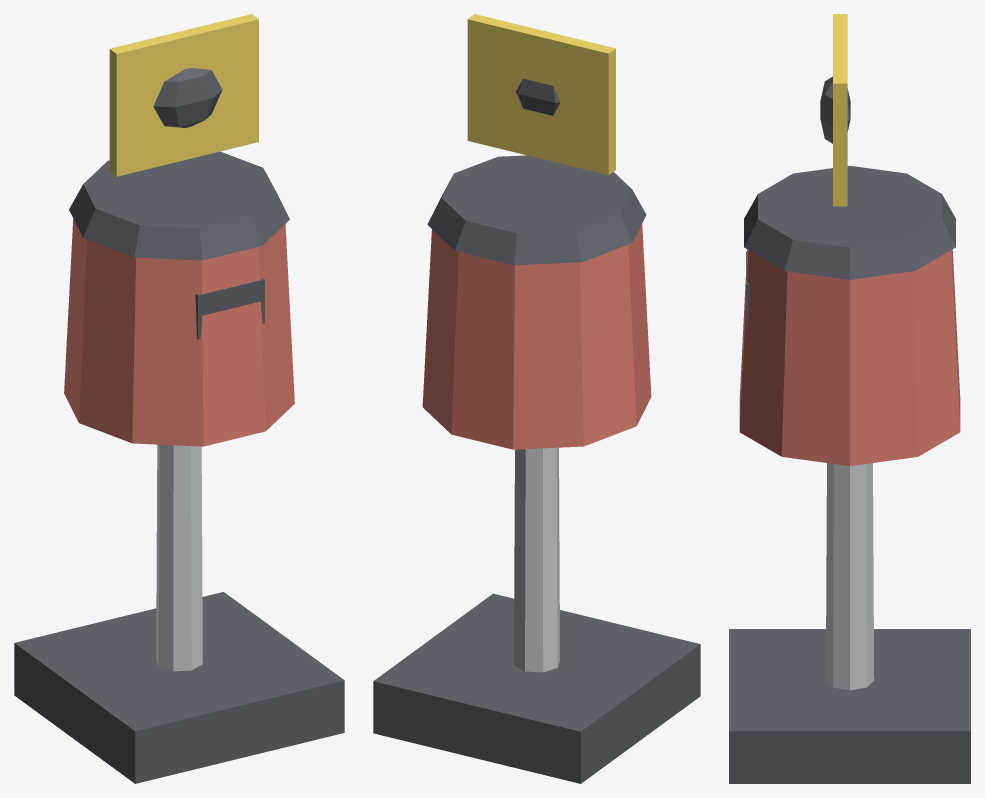
The model's file is 33681-Dog-Waste-Bin-City-Park-and-Playground.glb.
3 renders of one model, left to right at view 1: azimuth 30°, elevation 25°; view 2: azimuth 150°, elevation 25°; view 3: azimuth 270°, elevation 25°, orthographic.
Parts seen in each view (by area): view 1: dog-waste-bin-charcoal, dog-waste-bin-poppy, dog-waste-bin-sunflower, dog-waste-bin-steel; view 2: dog-waste-bin-charcoal, dog-waste-bin-poppy, dog-waste-bin-sunflower, dog-waste-bin-steel; view 3: dog-waste-bin-charcoal, dog-waste-bin-poppy, dog-waste-bin-steel, dog-waste-bin-sunflower.
Boxes of the visible parts, x1,y1,x2,y2 form: dog-waste-bin-charcoal: [14, 68, 344, 783]; dog-waste-bin-poppy: [64, 219, 294, 446]; dog-waste-bin-sunflower: [109, 14, 258, 176]; dog-waste-bin-steel: [156, 444, 202, 671]; dog-waste-bin-charcoal: [373, 78, 700, 783]; dog-waste-bin-poppy: [422, 224, 651, 449]; dog-waste-bin-sunflower: [467, 14, 615, 175]; dog-waste-bin-steel: [514, 447, 559, 672]; dog-waste-bin-charcoal: [729, 76, 970, 783]; dog-waste-bin-poppy: [739, 249, 960, 465]; dog-waste-bin-steel: [825, 463, 874, 690]; dog-waste-bin-sunflower: [833, 14, 847, 206].
Bounding box in the file's own units: 0.5 × 1.56 × 0.5.
